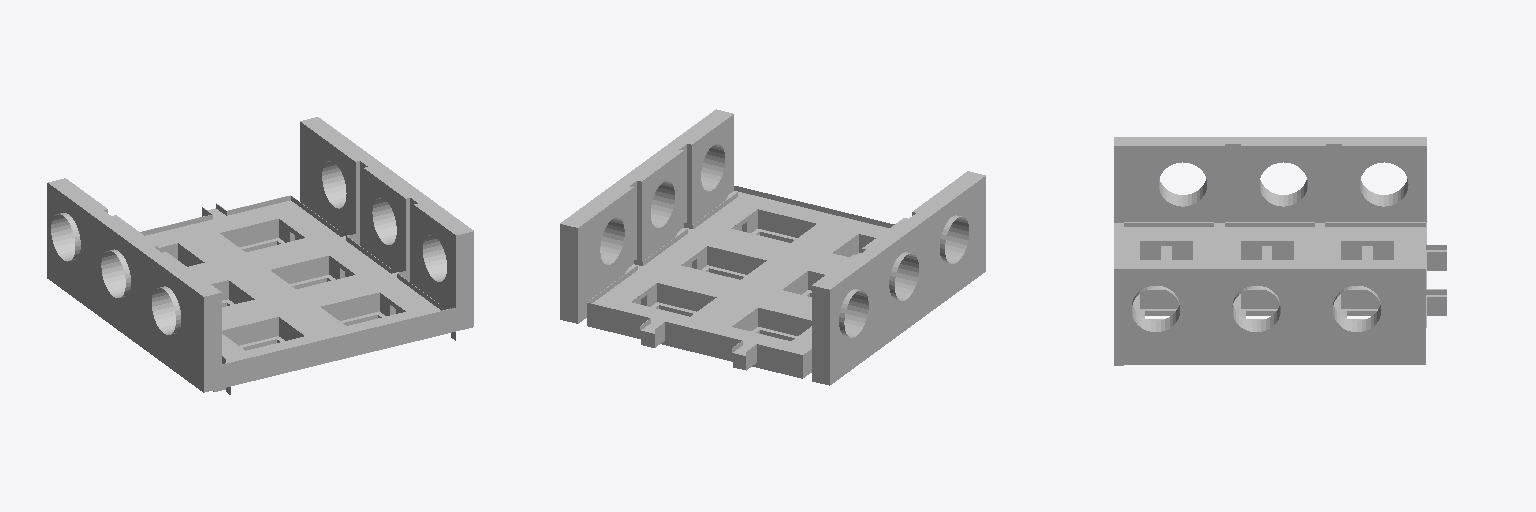
The model's file is Hangar1dec2020ComParde.obj.
3 renders of one model, left to right at view 1: azimuth 30°, elevation 25°; view 2: azimuth 150°, elevation 25°; view 3: azimuth 270°, elevation 25°, orthographic.
Parts seen in each view (by area): view 1: Cube, Cube.004, Cube.001; view 2: Cube, Cube.004, Cube.001; view 3: Cube, Cube.004, Cube.001.
Boxes of the visible parts, x1=… form: Cube: x1=47, y1=117, x2=473, y2=392; Cube.004: x1=140, y1=195, x2=455, y2=368; Cube.001: x1=158, y1=219, x2=446, y2=391; Cube: x1=560, y1=109, x2=985, y2=385; Cube.004: x1=587, y1=186, x2=894, y2=370; Cube.001: x1=587, y1=209, x2=875, y2=378; Cube: x1=1114, y1=137, x2=1426, y2=364; Cube.004: x1=1114, y1=222, x2=1446, y2=327; Cube.001: x1=1140, y1=241, x2=1436, y2=317.
Size of the model in its own units: 30.68 by 11 by 31.57.